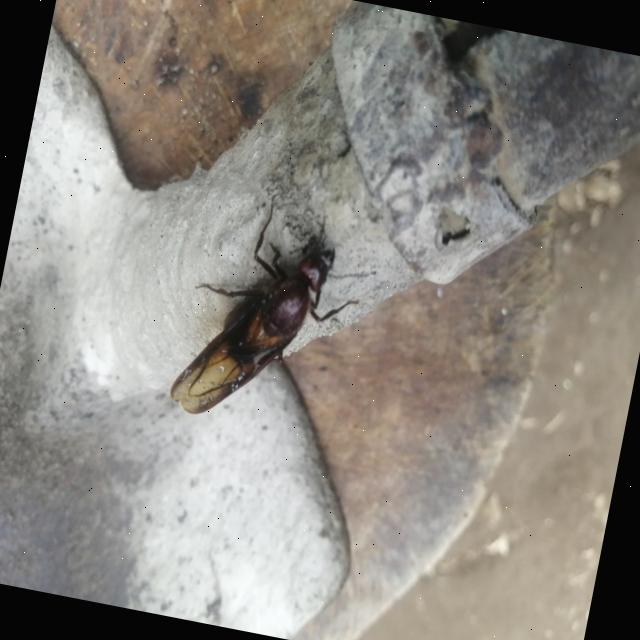Alive-Female-Alate: (163, 181, 379, 446)
